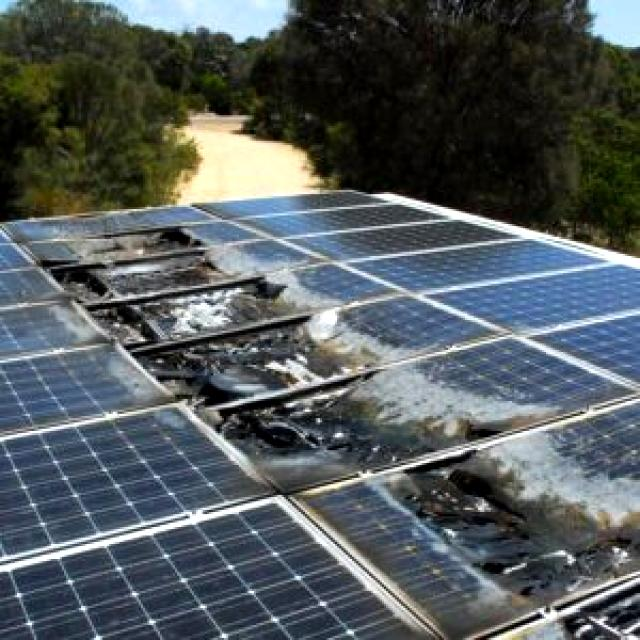shadow: (381, 468, 588, 582), (250, 354, 423, 482), (190, 313, 334, 417), (135, 270, 251, 375), (40, 218, 176, 306), (428, 396, 554, 458), (512, 577, 630, 640), (250, 264, 309, 314), (342, 330, 374, 373)
